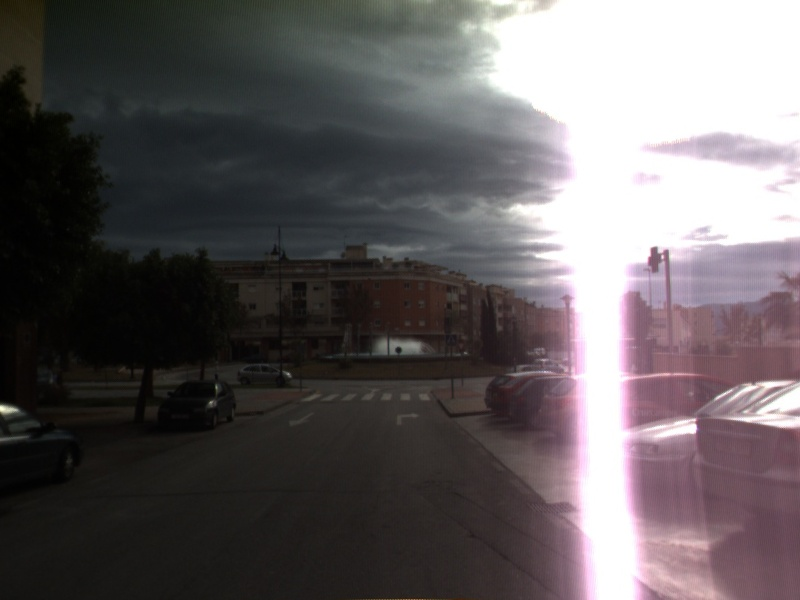RIGHT: (394, 409, 422, 427)
